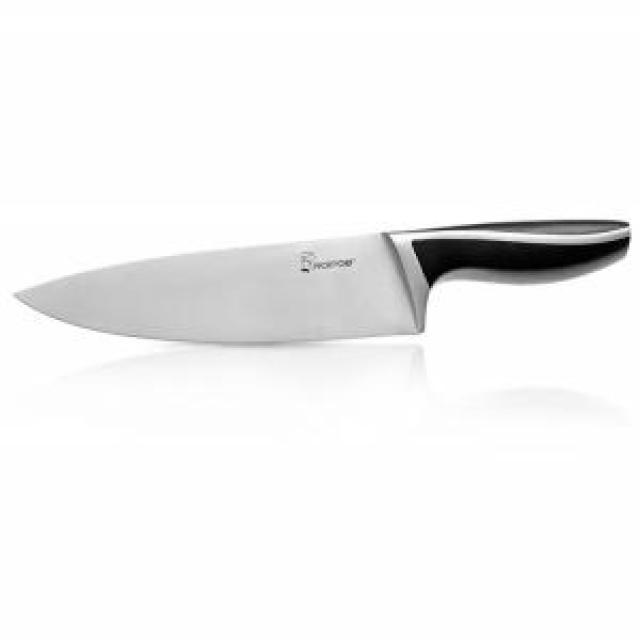knife: (13, 215, 630, 344)
